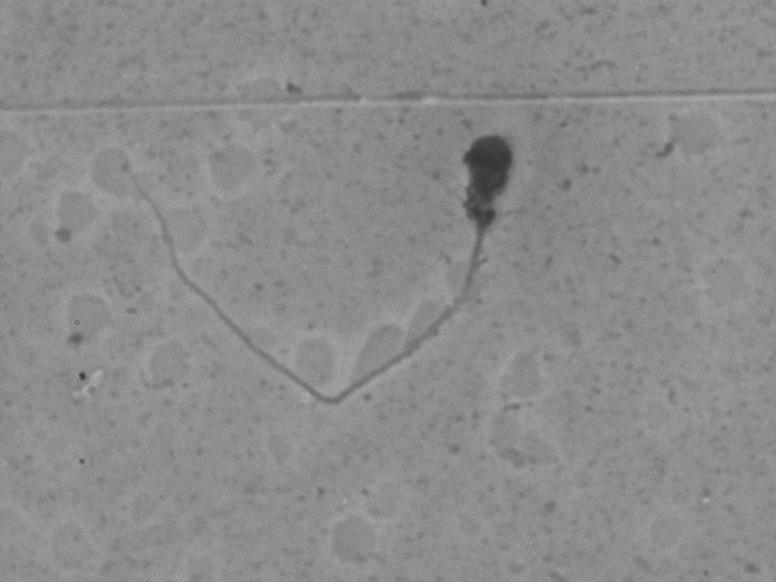Abnormal: (95, 109, 552, 441)
